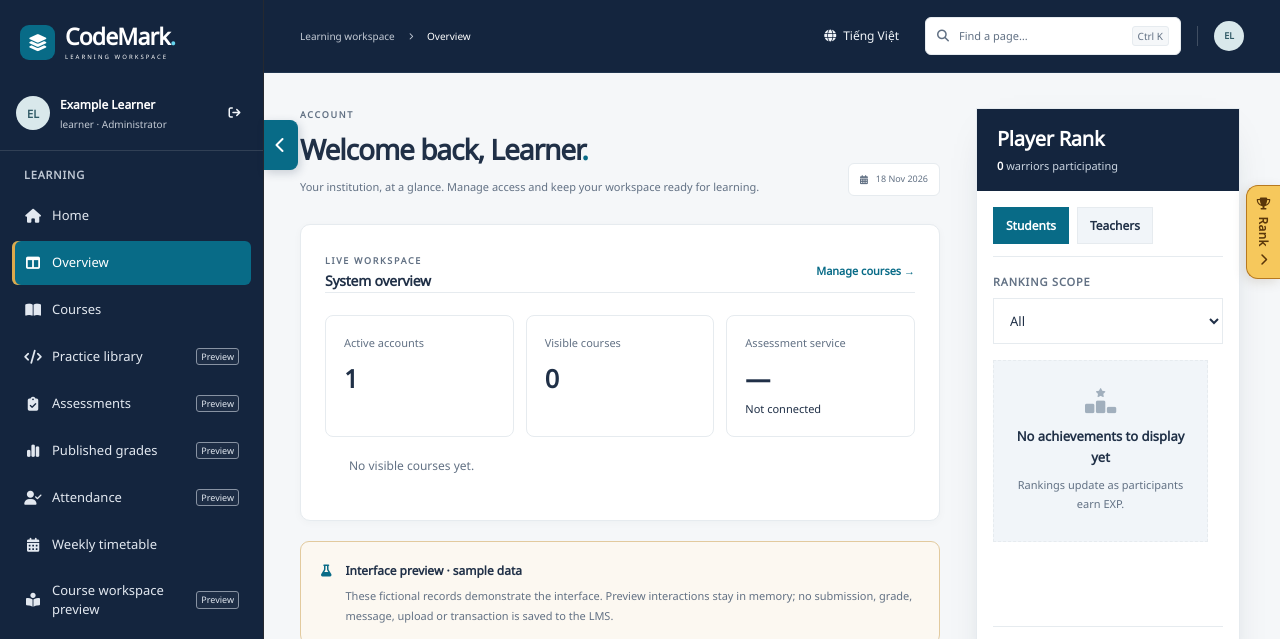
it: Workspace shell and clearly isolated previews › simplifies navigation and saves the language selected from the workspace header
Expected: the heading "Welcome back, Learner." is shown, [300,130,588,168]
Click the button named "Collapse sidebar". click: (281, 145)
box: [264,120,298,170]
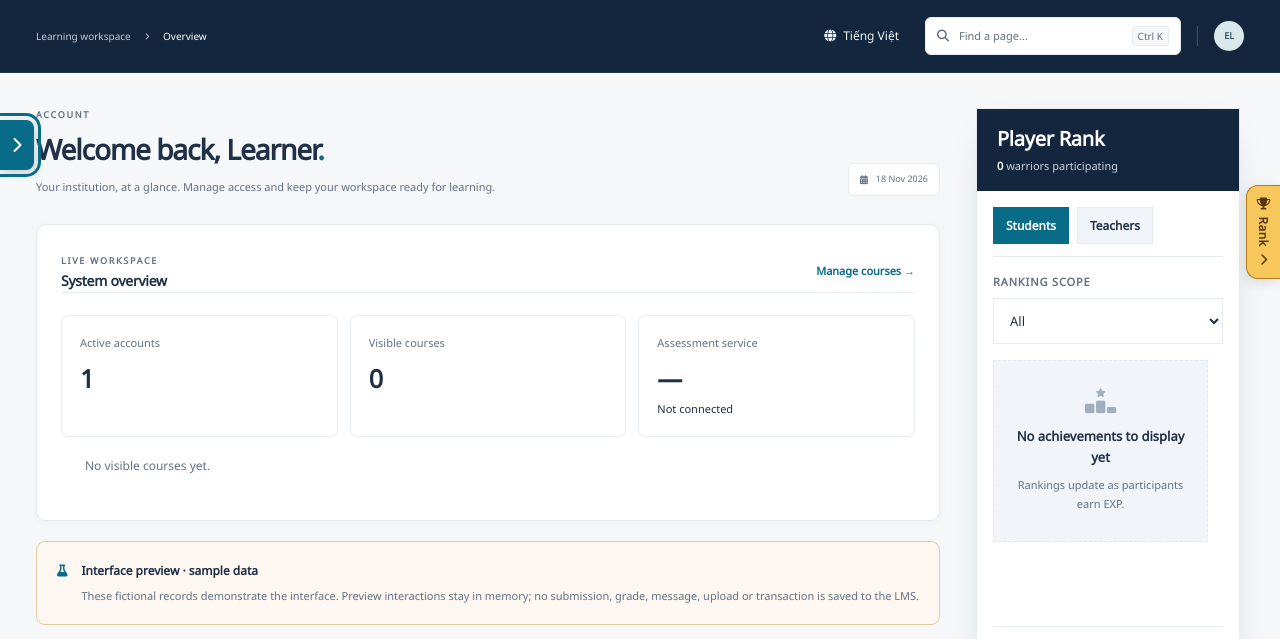
Expected: the button named "Expand sidebar" is collapsed
Click the button named "Expand sidebar". click: (17, 145)
box: [0,120,34,170]
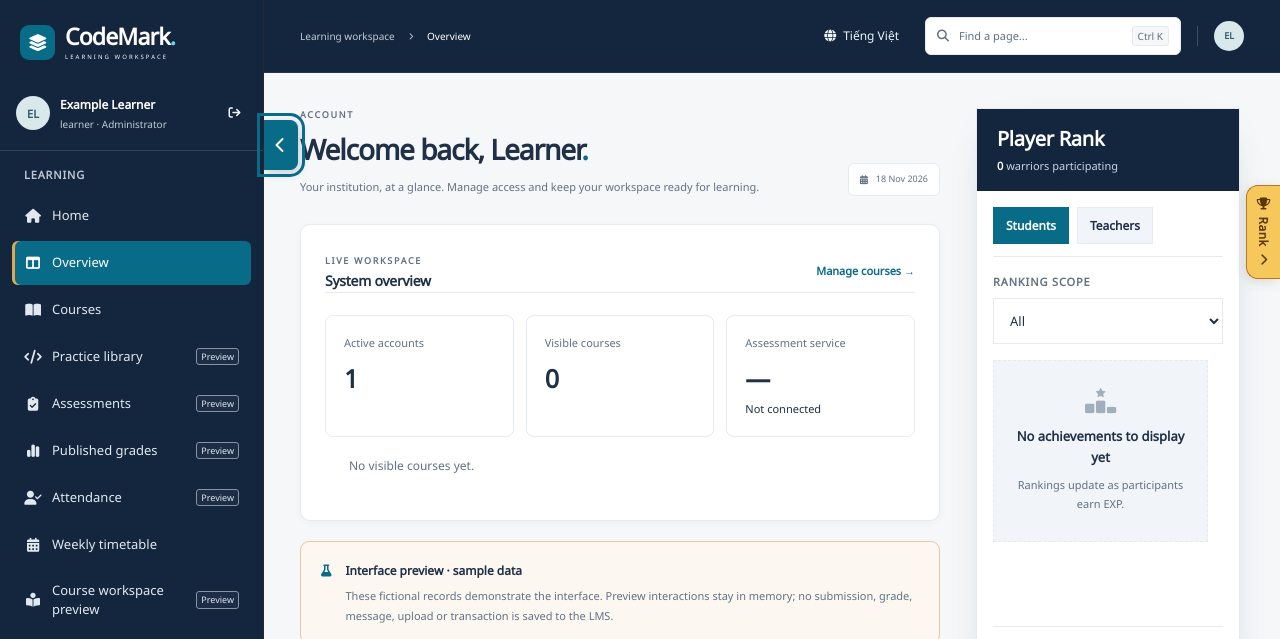
Click the button "Tiếng Việt". click: (862, 36)
box: [814,19,909,53]
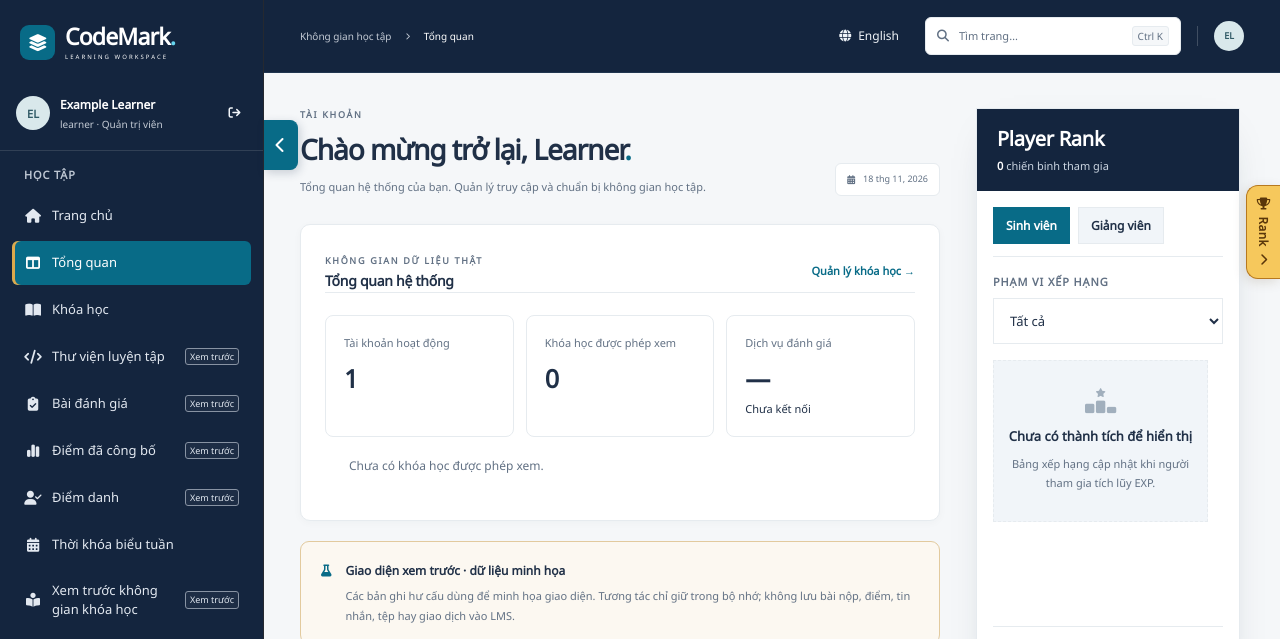
Expected: the button "English" is shown, [829,19,909,53]
